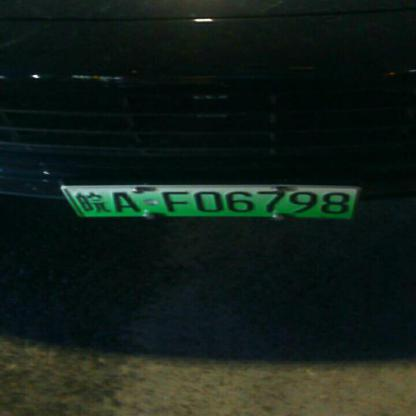lp: (65, 189, 357, 219)
